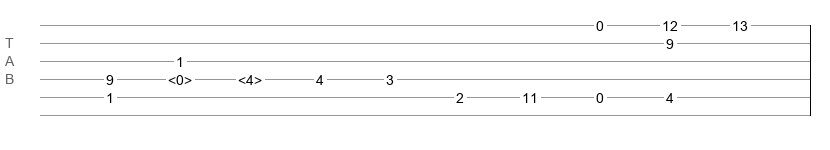0: (596, 18, 604, 28), (596, 90, 604, 100)
1: (106, 90, 114, 100), (176, 54, 184, 64)
11: (522, 90, 538, 100)
12: (662, 18, 678, 28)
13: (732, 18, 748, 28)
2: (456, 90, 464, 100)
3: (386, 72, 394, 82)
4: (316, 72, 324, 82), (666, 90, 674, 100)
9: (106, 72, 114, 82), (666, 36, 674, 46)
harmonic: (168, 72, 192, 82), (238, 72, 262, 82)
